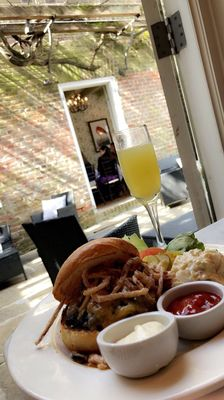soup: (55, 237, 160, 353)
sushi: (96, 311, 179, 379), (156, 281, 224, 341)
